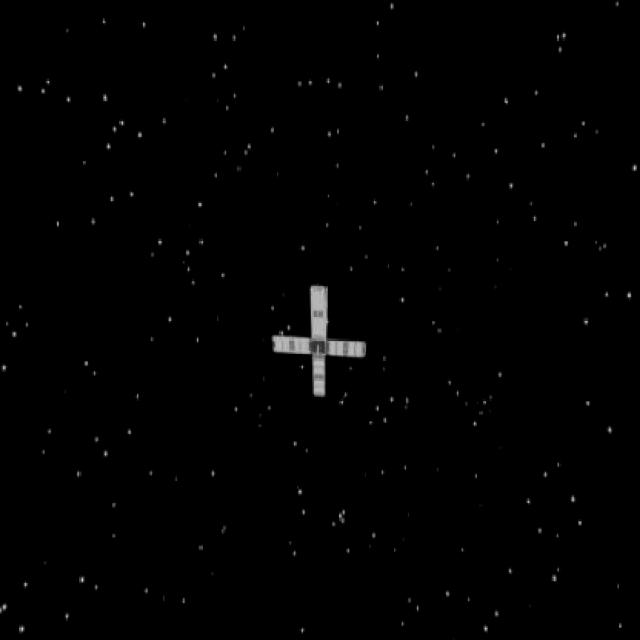satellite: (253, 269, 371, 402)
